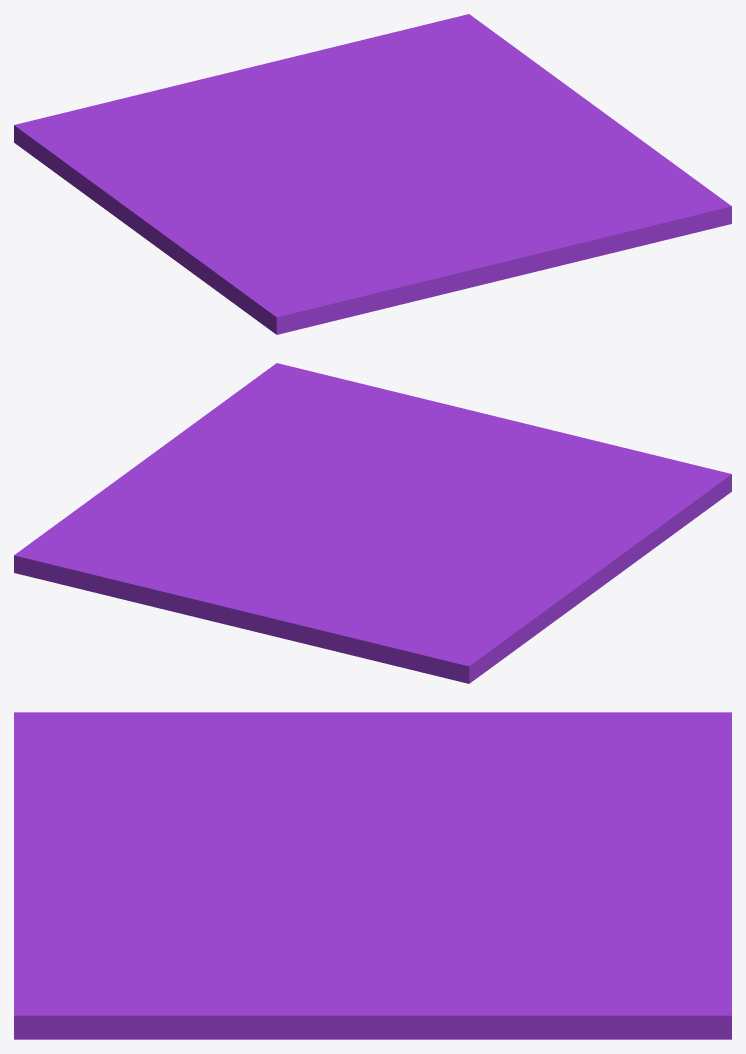
Rendered from Platform_47_chunks.fbx.
3 views of the same model, one above another, from view 1: azimuth 30°, elevation 25°; view 2: azimuth 150°, elevation 25°; view 3: azimuth 270°, elevation 25° (orthographic). The views are drawn at different scales.
Visible parts, largest first — view 1: Platform_47_11, Platform_47_14, Platform_47_0, Platform_47_8, Platform_47_2, Platform_47_1, Platform_47_10, Platform_47_3, Platform_47_13, Platform_47_15, Platform_47_12, Platform_47_16 (+5 smaller); view 2: Platform_47_11, Platform_47_14, Platform_47_0, Platform_47_8, Platform_47_2, Platform_47_1, Platform_47_10, Platform_47_3, Platform_47_13, Platform_47_15, Platform_47_16, Platform_47_17 (+3 smaller); view 3: Platform_47_11, Platform_47_14, Platform_47_0, Platform_47_1, Platform_47_8, Platform_47_2, Platform_47_10, Platform_47_3, Platform_47_13, Platform_47_15, Platform_47_16, Platform_47_17 (+3 smaller).
Boxes of the visible parts, <box> form: Platform_47_11: <box>14,74,266,216</box>; Platform_47_14: <box>457,163,731,261</box>; Platform_47_0: <box>295,14,544,116</box>; Platform_47_8: <box>118,176,325,292</box>; Platform_47_2: <box>223,56,436,150</box>; Platform_47_1: <box>465,70,672,163</box>; Platform_47_10: <box>236,101,368,214</box>; Platform_47_3: <box>348,116,593,163</box>; Platform_47_13: <box>320,229,542,288</box>; Platform_47_15: <box>258,221,425,294</box>; Platform_47_12: <box>253,257,543,323</box>; Platform_47_16: <box>317,163,435,224</box>; Platform_47_11: <box>260,559,574,683</box>; Platform_47_14: <box>219,363,465,484</box>; Platform_47_0: <box>14,499,241,610</box>; Platform_47_8: <box>463,492,688,591</box>; Platform_47_2: <box>168,516,353,632</box>; Platform_47_1: <box>90,405,257,505</box>; Platform_47_10: <box>294,507,495,585</box>; Platform_47_3: <box>226,435,369,531</box>; Platform_47_13: <box>459,409,625,478</box>; Platform_47_15: <box>480,457,695,505</box>; Platform_47_16: <box>337,485,521,517</box>; Platform_47_17: <box>326,450,500,491</box>; Platform_47_11: <box>437,712,731,854</box>; Platform_47_14: <box>14,865,320,1030</box>; Platform_47_0: <box>448,899,731,1039</box>; Platform_47_1: <box>162,943,553,1039</box>; Platform_47_8: <box>96,712,446,806</box>; Platform_47_2: <box>433,851,731,928</box>; Platform_47_10: <box>269,788,625,863</box>; Platform_47_3: <box>228,862,465,975</box>; Platform_47_13: <box>14,762,133,889</box>; Platform_47_15: <box>89,718,244,838</box>; Platform_47_16: <box>215,795,381,896</box>; Platform_47_17: <box>125,835,333,907</box>.
Bounding box in the file's own units: 810 × 29.87 × 810.
